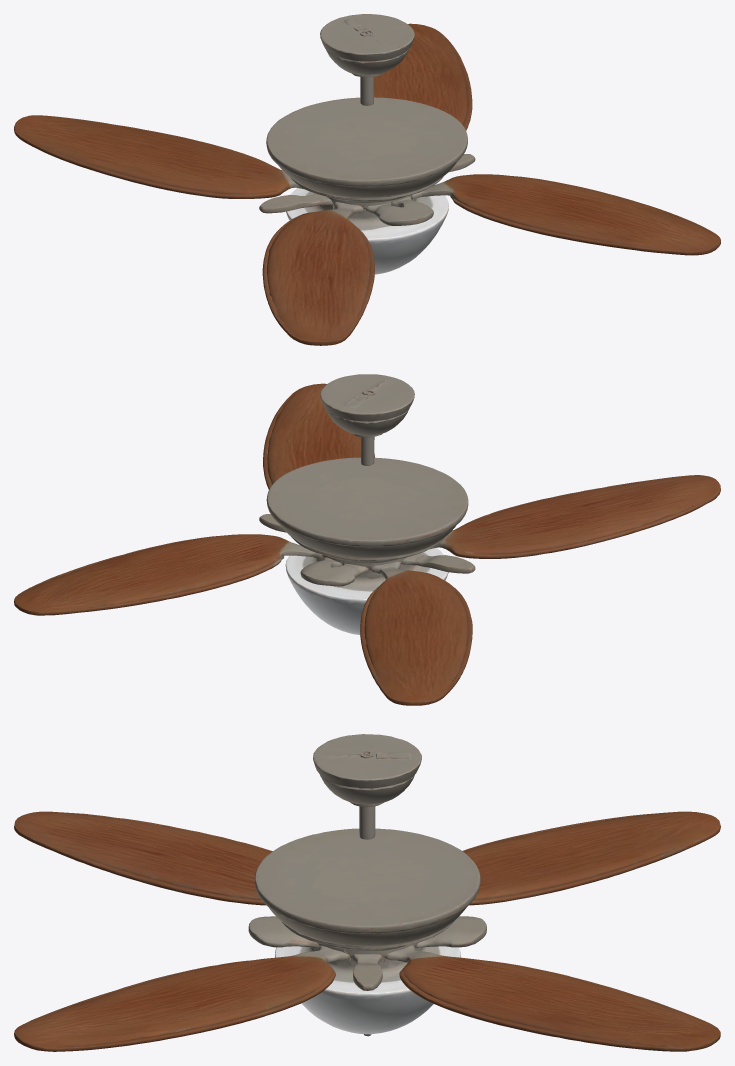
The model's file is fan.glb.
3 renders of one model, top to bottom at view 1: azimuth 30°, elevation 25°; view 2: azimuth 150°, elevation 25°; view 3: azimuth 270°, elevation 25°, orthographic. The views are drawn at different scales.
Visible parts, largest first — view 1: Mesh; view 2: Mesh; view 3: Mesh.
Part boxes in pixels (x1=…): Mesh: x1=14, y1=14, x2=720, y2=345; Mesh: x1=14, y1=374, x2=720, y2=705; Mesh: x1=14, y1=734, x2=720, y2=1051.
Size of the model in its own units: 1.51 by 0.8332 by 1.9.
Materials: 1 (1 with a texture image).
